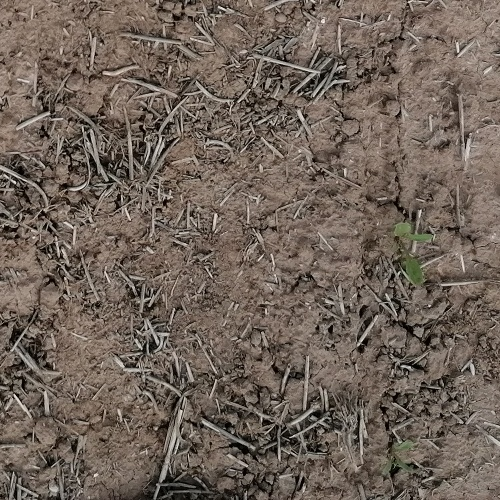beet: (395, 224, 434, 285)
